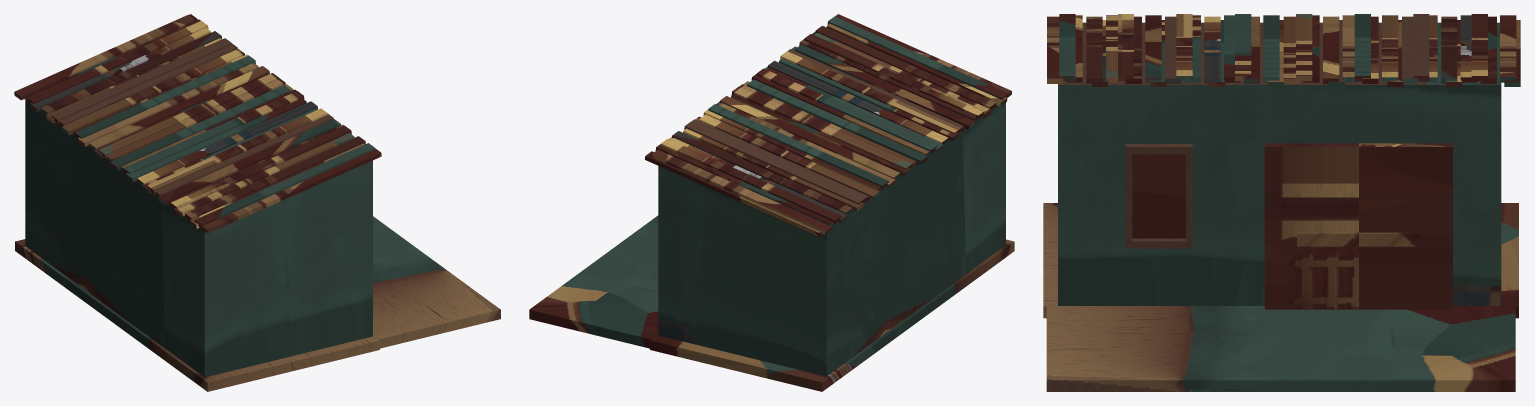
Rendered from storehouse.fbx.
The picture shows the model from 3 angles, left to right: view 1: azimuth 30°, elevation 25°; view 2: azimuth 150°, elevation 25°; view 3: azimuth 270°, elevation 25°; orthographic projection. The views are drawn at different scales.
Visible parts, largest first — view 1: storehouse, base_storehouse; view 2: storehouse, base_storehouse; view 3: storehouse, base_storehouse.
Part boxes in pixels (x1=…): storehouse: x1=14, y1=14, x2=381, y2=377; base_storehouse: x1=15, y1=216, x2=500, y2=391; storehouse: x1=645, y1=14, x2=1011, y2=376; base_storehouse: x1=529, y1=215, x2=1014, y2=391; storehouse: x1=1047, y1=14, x2=1520, y2=309; base_storehouse: x1=1043, y1=203, x2=1518, y2=391.
Size of the model in its own units: 969 by 615 by 1094.
